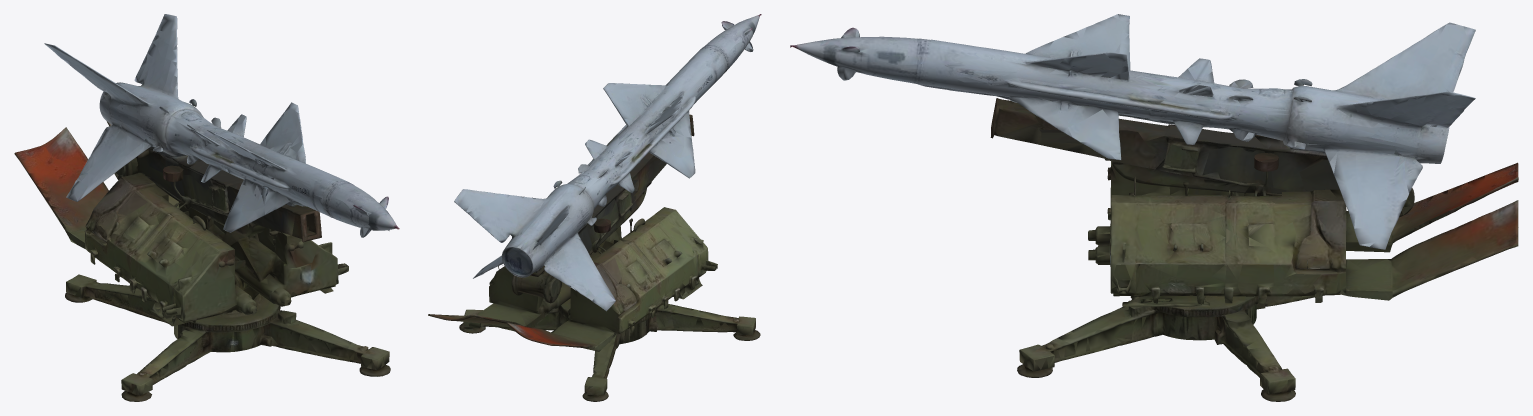
The picture shows the model from 3 angles, left to right: view 1: azimuth 30°, elevation 25°; view 2: azimuth 150°, elevation 25°; view 3: azimuth 270°, elevation 25°; orthographic projection. The views are drawn at different scales.
Parts seen in each view (by area): view 1: be_phong, ten_lua; view 2: be_phong, ten_lua; view 3: be_phong, ten_lua.
Boxes of the visible parts, <box> form: be_phong: <box>14,121,390,401</box>; ten_lua: <box>44,14,399,237</box>; be_phong: <box>428,114,760,401</box>; ten_lua: <box>454,14,761,331</box>; be_phong: <box>990,98,1518,401</box>; ten_lua: <box>790,14,1475,244</box>.
Size of the model in its own units: 4.78 by 4.25 by 9.5.
Materials: 1 (1 with a texture image).
